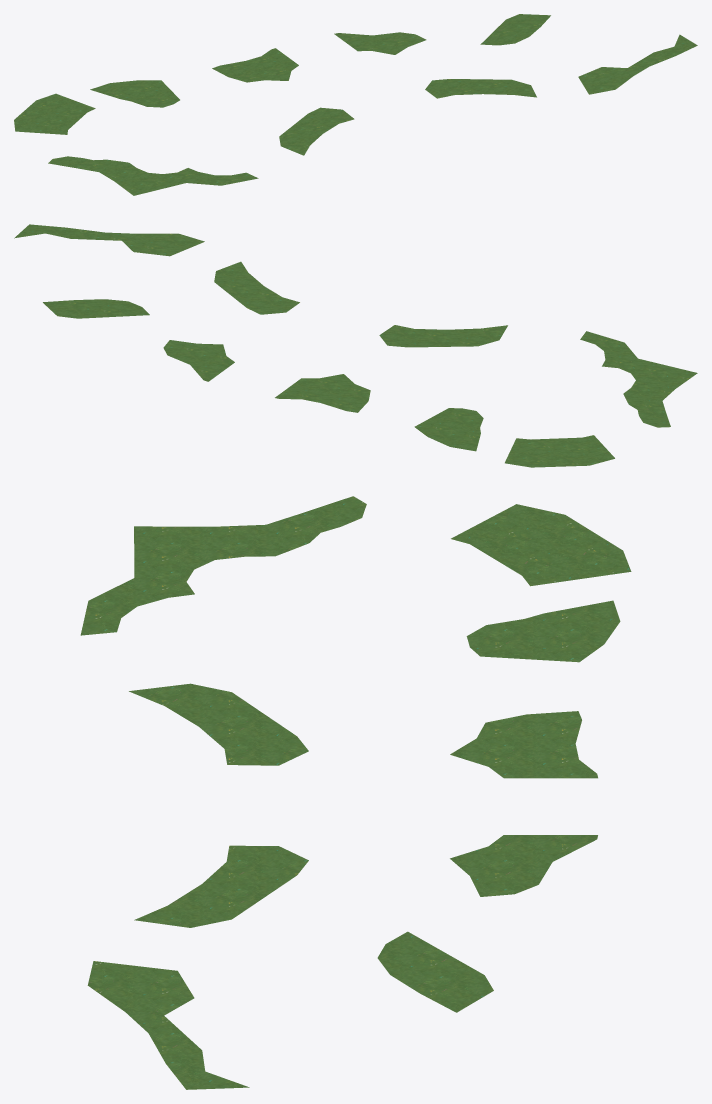
File: Map_06_plant04.FBX
3 renders of one model, top to bottom at view 1: azimuth 30°, elevation 25°; view 2: azimuth 150°, elevation 25°; view 3: azimuth 270°, elevation 25°, orthographic. The views are drawn at different scales.
Parts seen in each view (by area): view 1: Map_06_plant04; view 2: Map_06_plant04; view 3: Map_06_plant04.
Boxes of the visible parts, left/top/right/bottom form: Map_06_plant04: left=14, top=14, right=697, bottom=195; Map_06_plant04: left=14, top=224, right=697, bottom=467; Map_06_plant04: left=80, top=496, right=631, bottom=1089.
Bounding box in the file's own units: 13590 × 0.000228 × 5328.
Materials: 1 (1 with a texture image).
